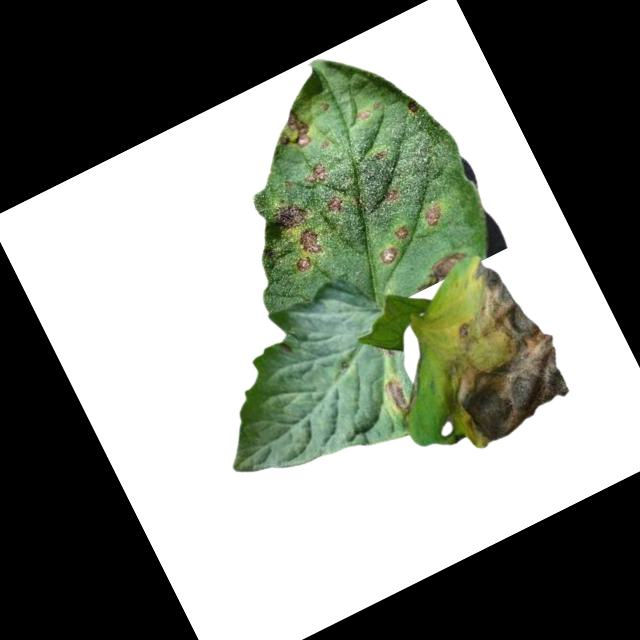Early_blight: (389, 247, 583, 457), (407, 242, 473, 290), (264, 103, 317, 158), (269, 197, 312, 234), (378, 370, 413, 414), (294, 223, 325, 259), (299, 158, 332, 190), (419, 199, 446, 228), (374, 241, 401, 268), (322, 194, 346, 218), (379, 184, 400, 205), (353, 104, 372, 123), (292, 255, 311, 273), (392, 223, 409, 240), (373, 146, 390, 161)
